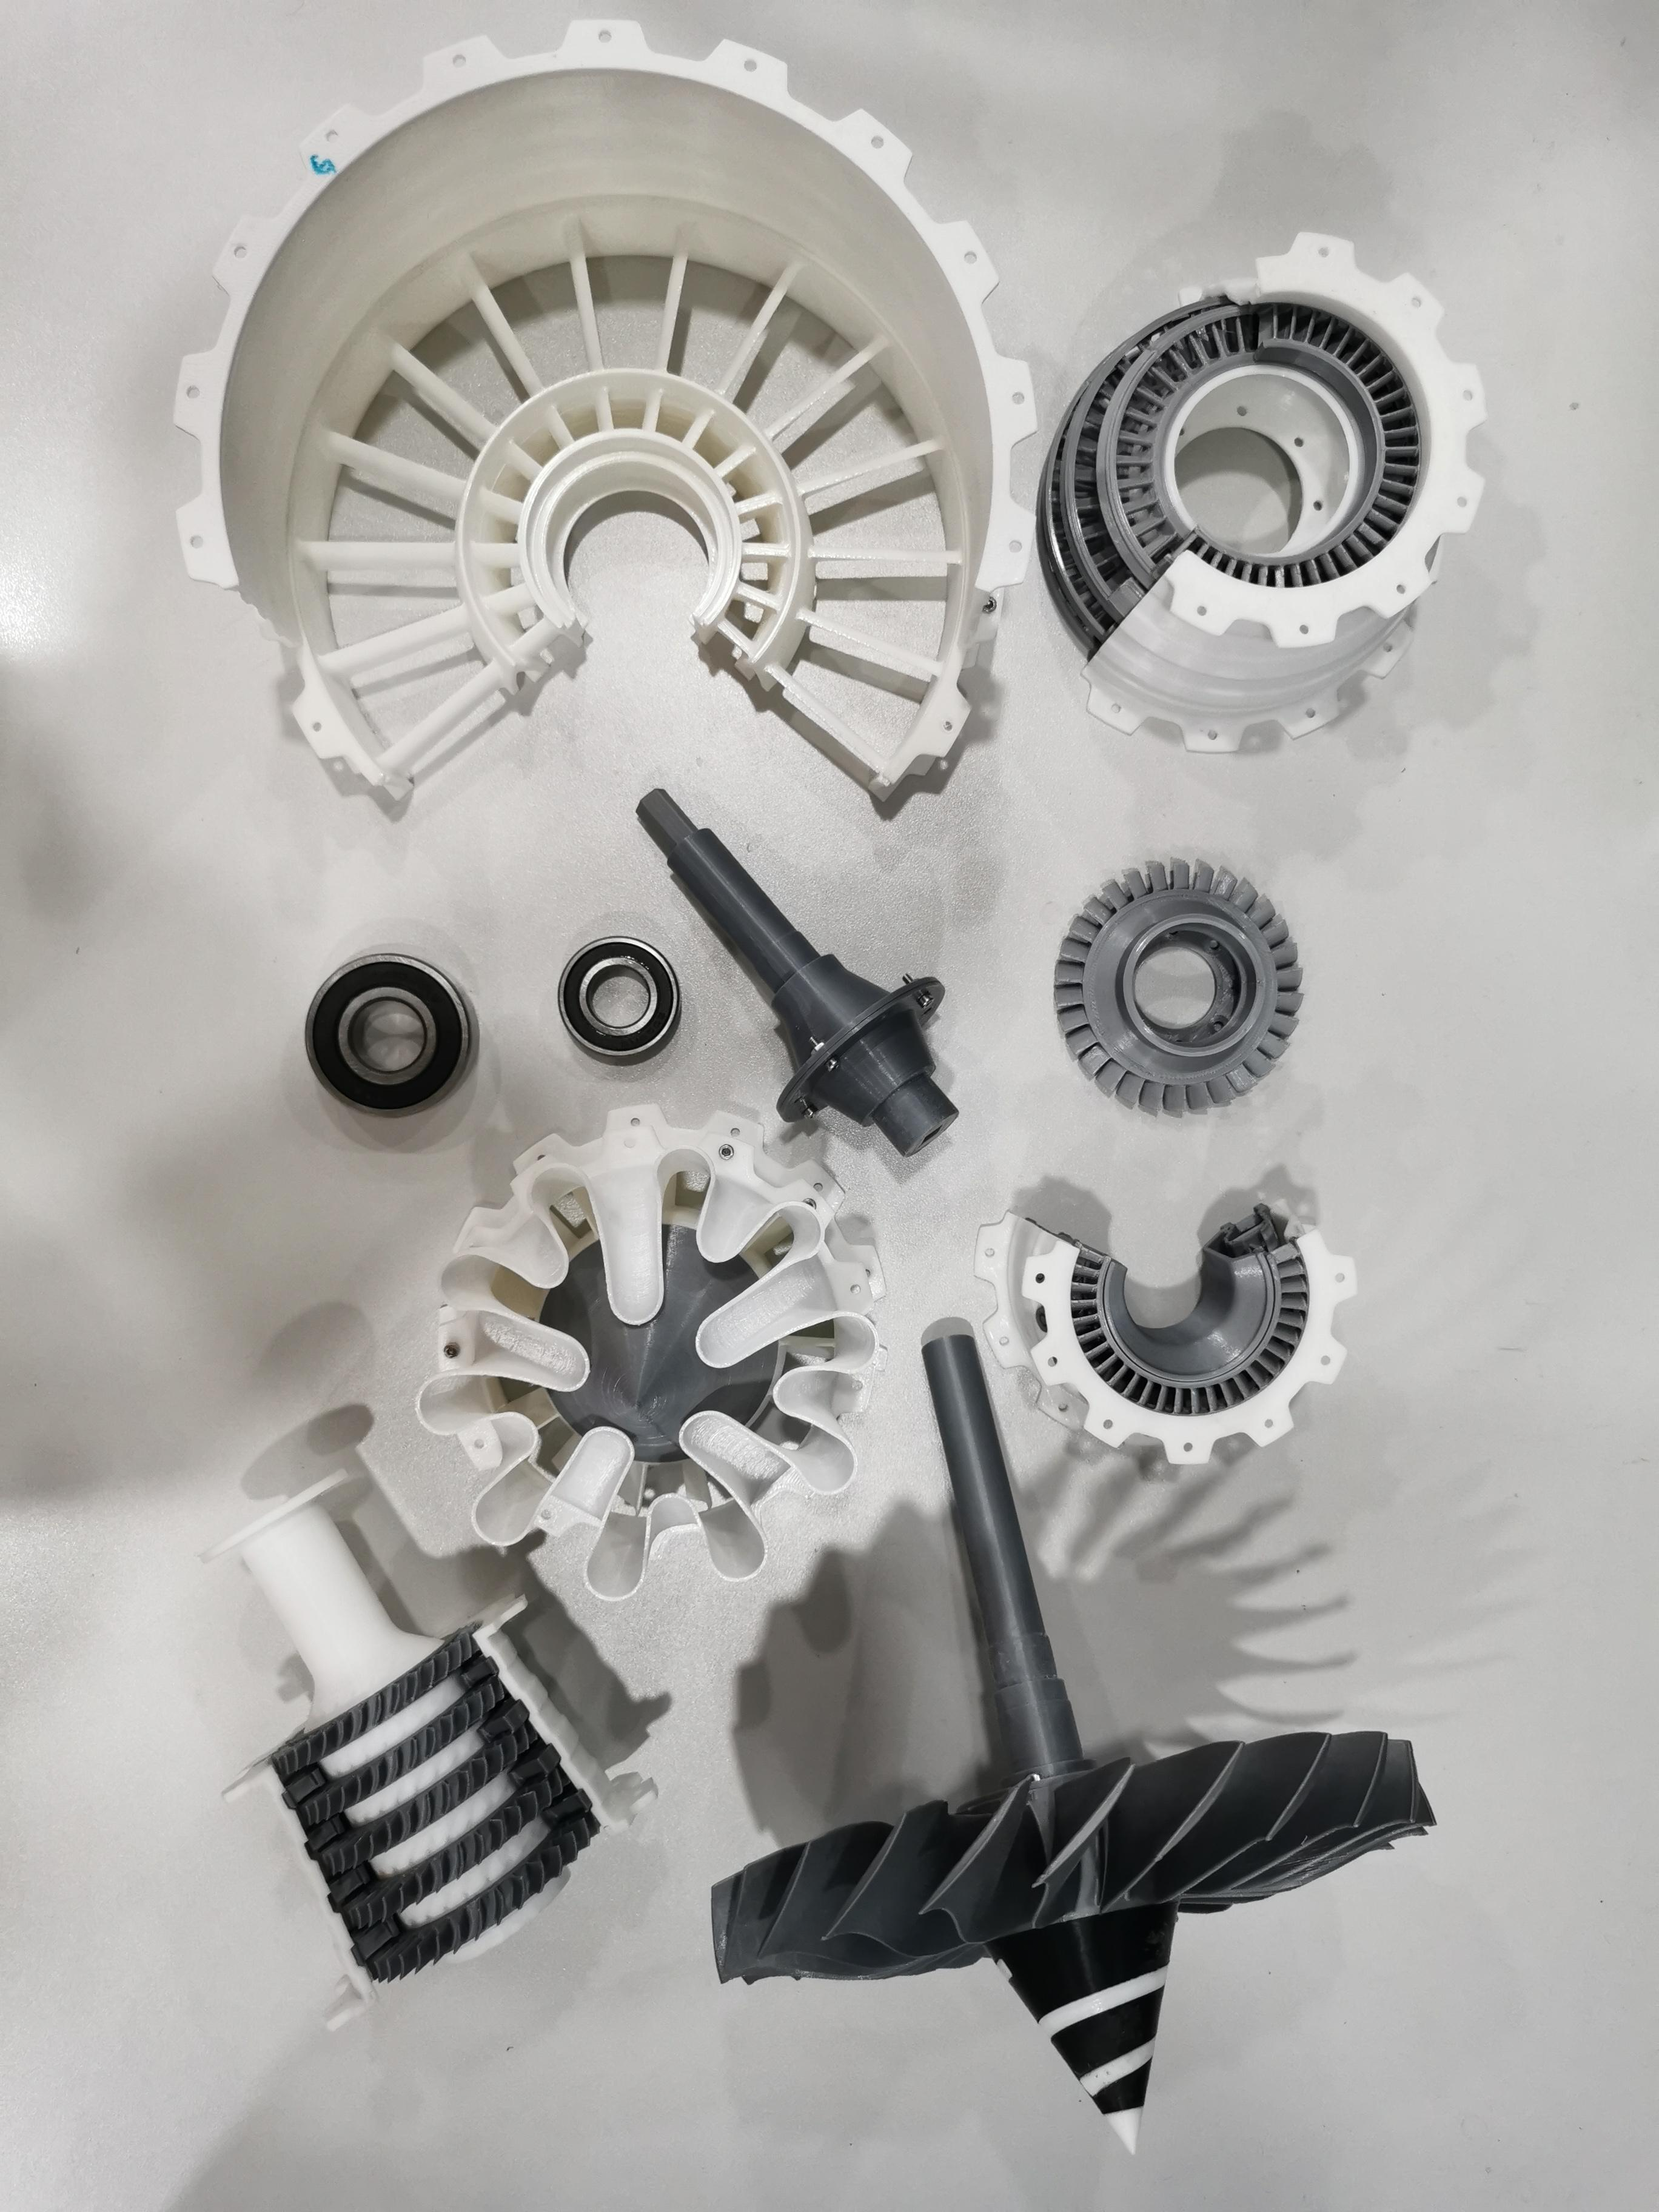Bearing-6003: (535, 920, 697, 1073)
Bearing-6204: (289, 939, 486, 1144)
Combustion Section: (969, 1191, 1371, 1484)
Fan Casing and Support: (152, 12, 1049, 817)
Fan and Low Pressure Shaft: (701, 1329, 1450, 2167)
HPT Section: (1030, 840, 1326, 1144)
High Pressure Spool: (181, 1456, 680, 2052)
LPT Section: (1030, 221, 1506, 766)
Low Pressure Spool: (624, 773, 976, 1157)
Nozzle Section: (401, 1096, 896, 1606)
